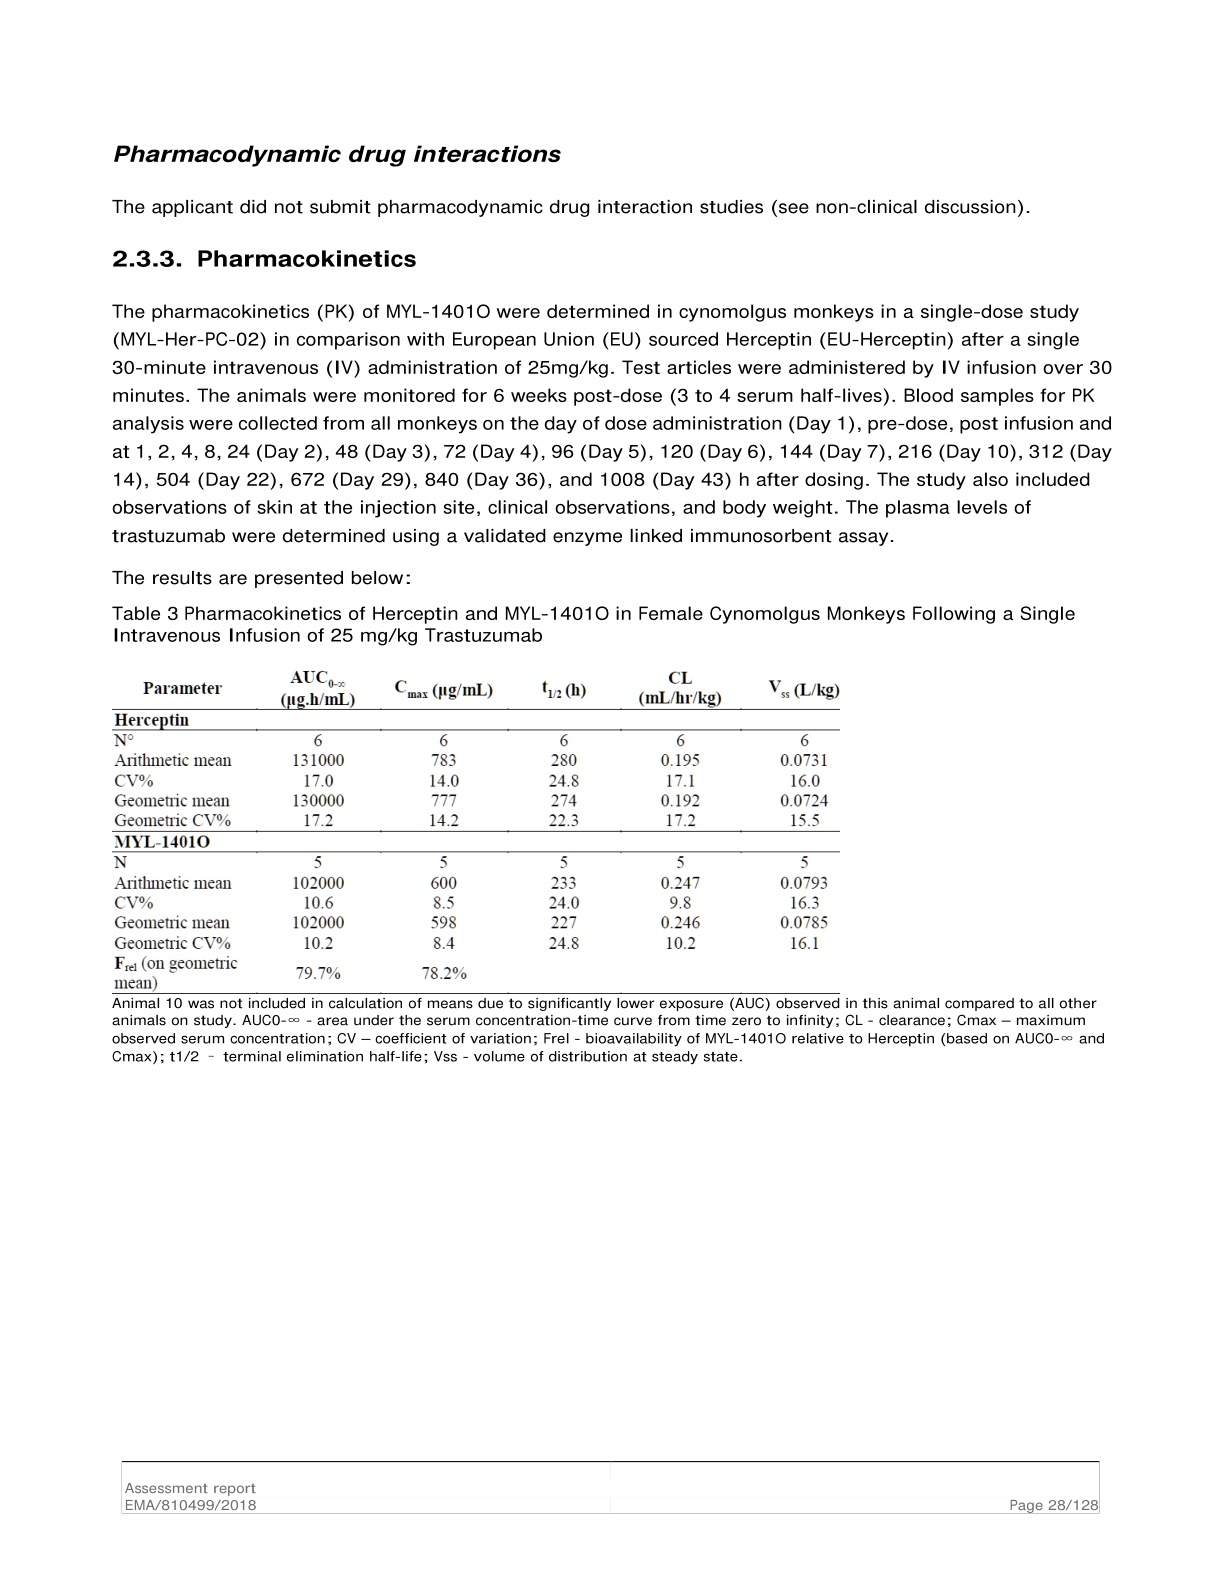partial_lined_merged_cells: (111, 669, 841, 995)
